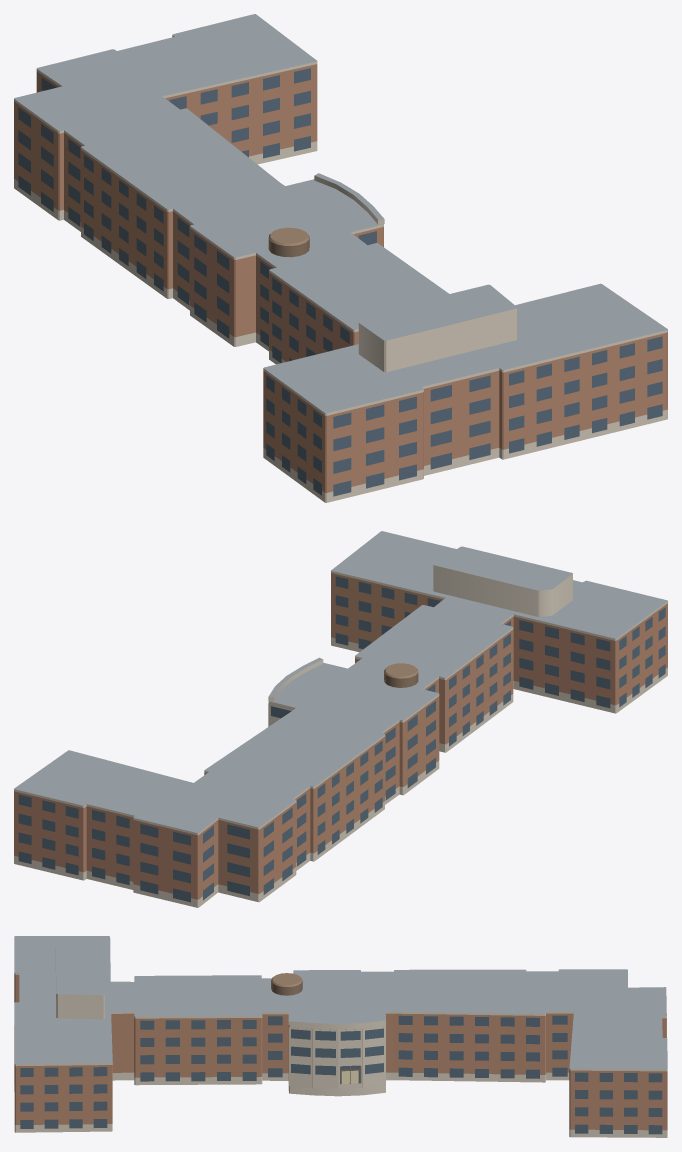
Rendered from dc-au-nebraska-hall.glb.
The picture shows the model from 3 angles, top to bottom: view 1: azimuth 30°, elevation 25°; view 2: azimuth 150°, elevation 25°; view 3: azimuth 270°, elevation 25°; orthographic projection. The views are drawn at different scales.
Parts seen in each view (by area): view 1: Nebraska Hall; view 2: Nebraska Hall; view 3: Nebraska Hall.
Boxes of the visible parts, <box> form: Nebraska Hall: <box>14,14,667,502</box>; Nebraska Hall: <box>14,531,667,907</box>; Nebraska Hall: <box>14,936,667,1137</box>.
Bounding box in the file's own units: 50.95 × 16.5 × 106.
